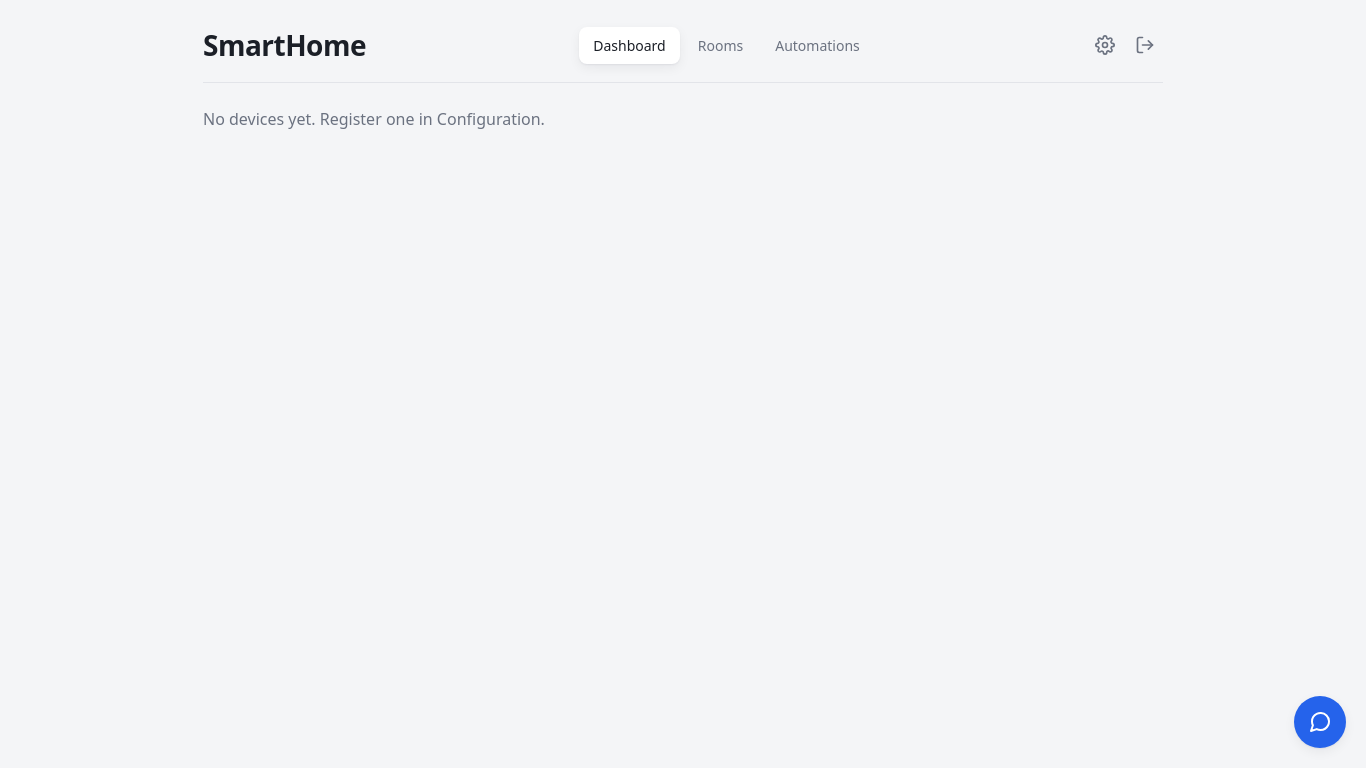
Scenario: App › navigates to the automations view
Expected: the text "No devices yet. Register one in Configuration." is shown, x1=203 y1=108 x2=545 y2=130
Click the link "Automations".
click(818, 45)  # box x1=775 y1=36 x2=860 y2=54
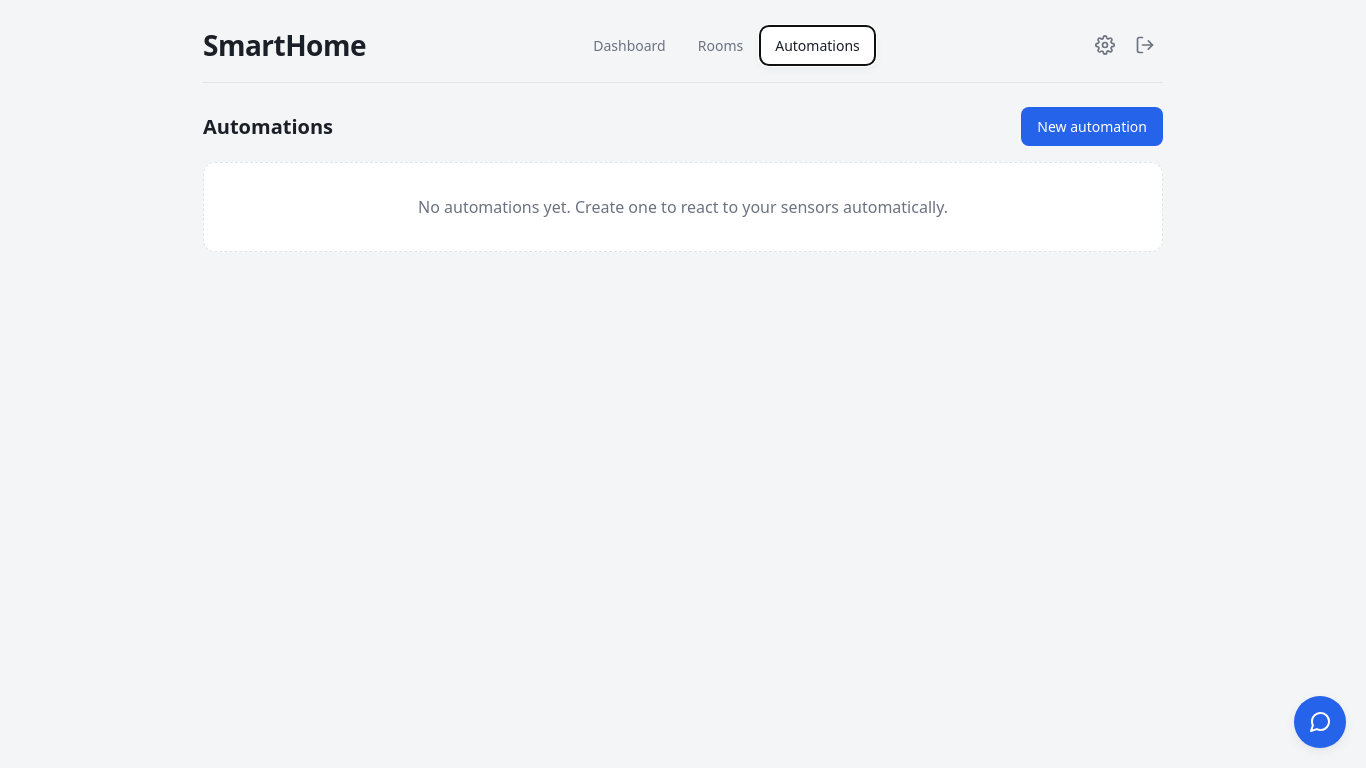
Result: the heading "Automations" is shown at x1=203 y1=112 x2=333 y2=142
